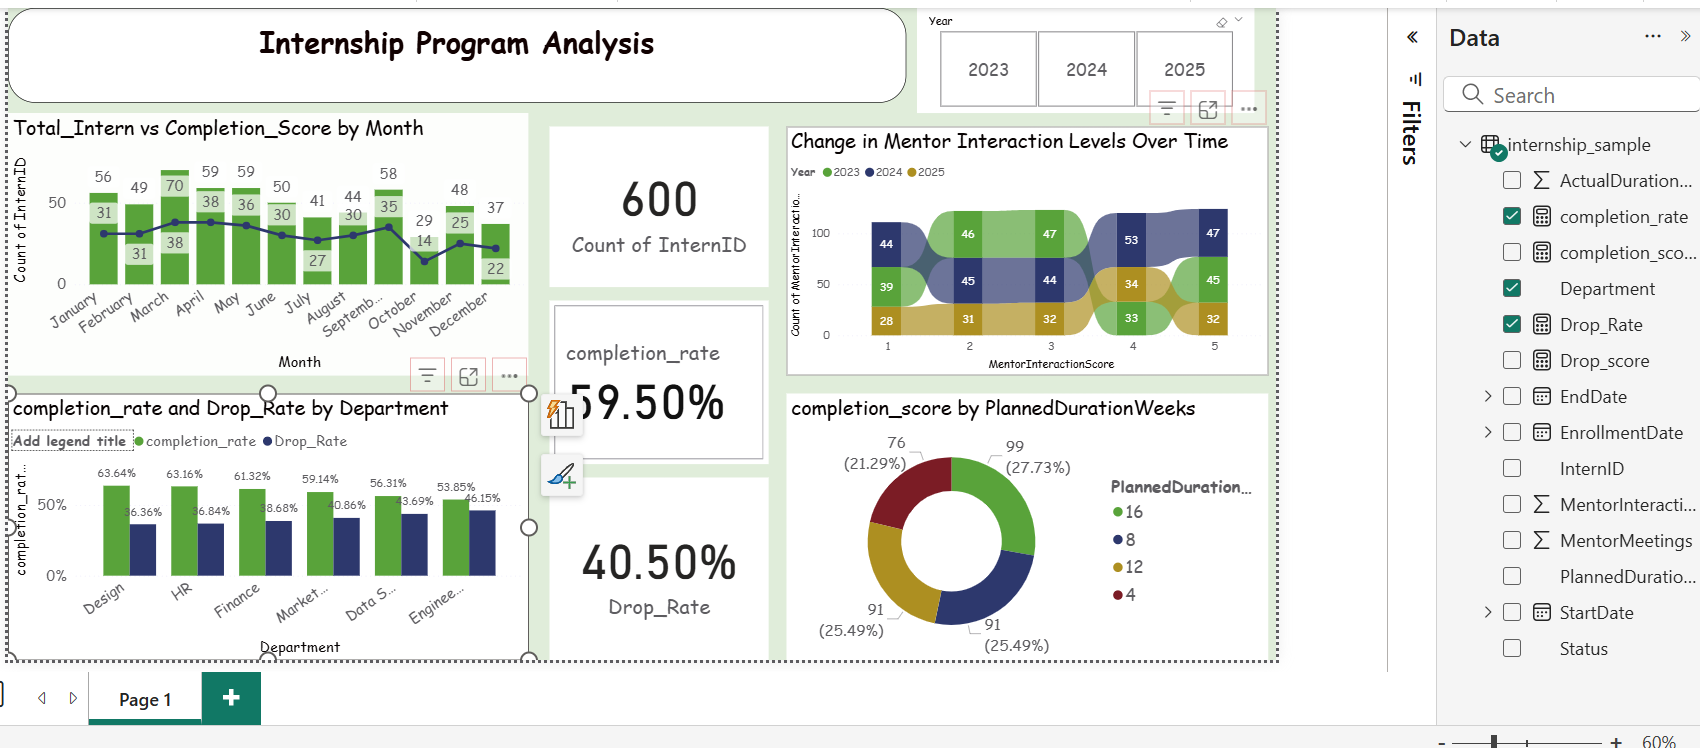

The page's visual inventory and layout, read from the dashboard file:
{"tool":"powerbi","page":{"name":"Page 1","canvas":[1400,720],"ordinal":0},"visuals":[{"type":"card","fields":{"Values":["Count(internship_sample.InternID)"]},"box":[598,130.9,241.8,177.2],"z":0},{"type":"cardVisual","fields":{"Data":["internship_sample.completion_rate"]},"box":[598,323,241.8,180.6],"z":1000},{"type":"card","fields":{"Values":["internship_sample.Drop_Rate"]},"box":[598,518.5,241.8,202.1],"z":2000},{"type":"lineClusteredColumnComboChart","title":"Total_Intern vs Completion_Score by Month","fields":{"Category":["internship_sample.StartDate.Variation.Date Hierarchy.Year","internship_sample.StartDate.Variation.Date Hierarchy.Month"],"Y":["Count(internship_sample.InternID)"],"Y2":["internship_sample.completion_score"]},"box":[0,116,574.8,289.9],"z":3000},{"type":"slicer","fields":{"Values":["internship_sample.StartDate.Variation.Date Hierarchy.Year"]},"box":[1003.8,0,372.7,116],"z":4000},{"type":"clusteredColumnChart","fields":{"Category":["internship_sample.Department"],"Y":["internship_sample.completion_rate","internship_sample.Drop_Rate"]},"box":[0,425.7,574.8,294.9],"z":5000},{"type":"donutChart","fields":{"Category":["internship_sample.PlannedDurationWeeks"],"Y":["internship_sample.completion_rate"]},"box":[859.7,425.7,531.7,294.9],"z":6000},{"type":"ribbonChart","title":"Change in Mentor Interaction Levels Over Time","fields":{"Y":["CountNonNull(internship_sample.MentorInteractionScore)"],"Category":["internship_sample.MentorInteractionScore"],"Series":["internship_sample.StartDate.Variation.Date Hierarchy.Year"]},"box":[859.7,130.9,531.7,275],"z":7000},{"type":"textbox","box":[0,0,992.2,104.4],"z":8000}]}

Visuals, with their boxes on the page's 1400x720 design canvas (x1, y1, x2, y2). These are canvas units, not pixel positions in the 1700x748 screenshot, which may show the page scaled, cropped or inside an application window:
card - Count(internship_sample.InternID): bbox=(598, 131, 840, 308)
cardVisual - internship_sample.completion_rate: bbox=(598, 323, 840, 504)
card - internship_sample.Drop_Rate: bbox=(598, 518, 840, 721)
"Total_Intern vs Completion_Score by Month" lineClusteredColumnComboChart: bbox=(0, 116, 575, 406)
slicer - internship_sample.StartDate.Variation.Date Hierarchy.Year: bbox=(1004, 0, 1376, 116)
clusteredColumnChart - internship_sample.Department x internship_sample.completion_rate: bbox=(0, 426, 575, 721)
donutChart - internship_sample.PlannedDurationWeeks x internship_sample.completion_rate: bbox=(860, 426, 1391, 721)
"Change in Mentor Interaction Levels Over Time" ribbonChart: bbox=(860, 131, 1391, 406)
textbox: bbox=(0, 0, 992, 104)
